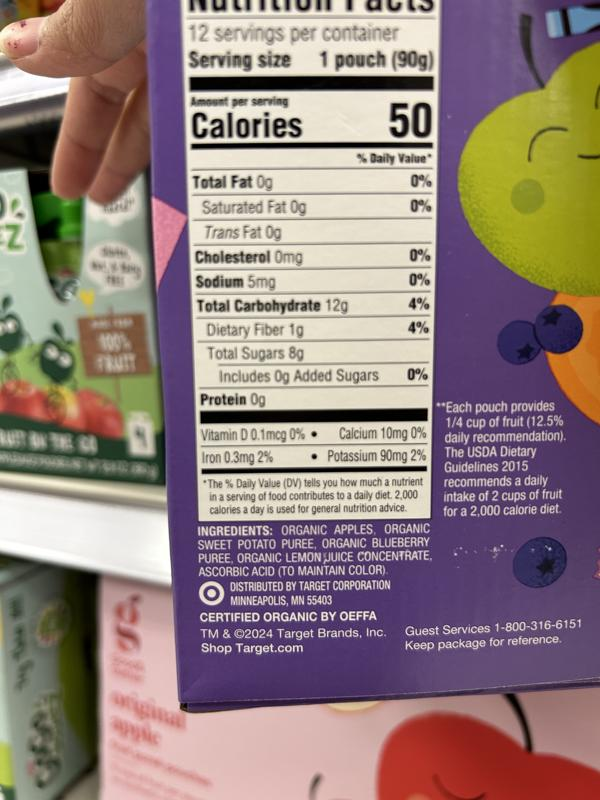ingredients: (194, 523, 434, 578)
